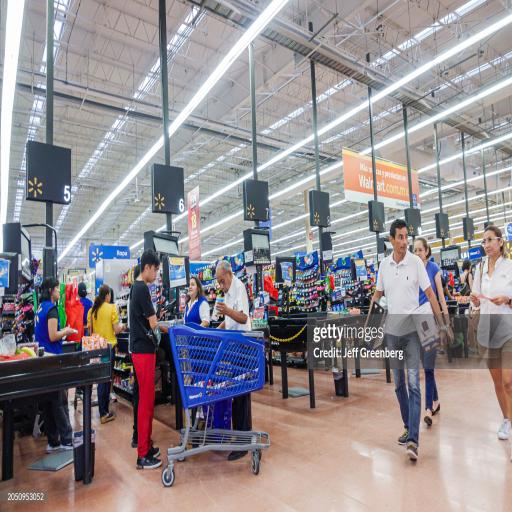shopping_cart: (158, 313, 270, 486)
